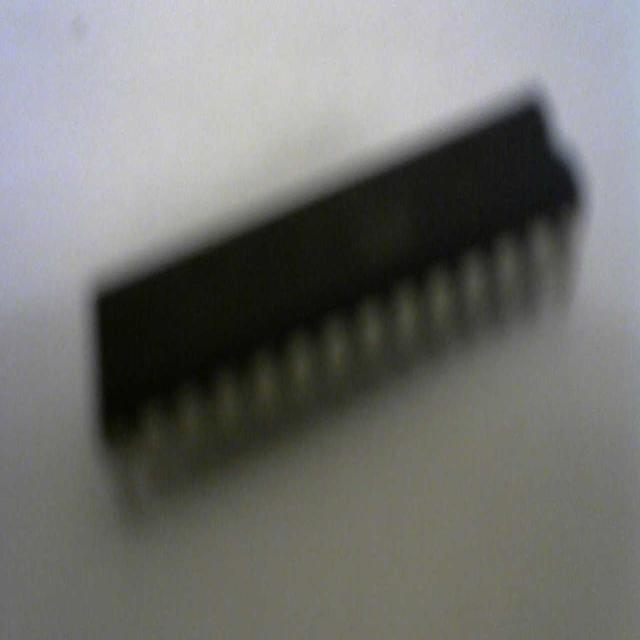atmega: (90, 84, 586, 472)
